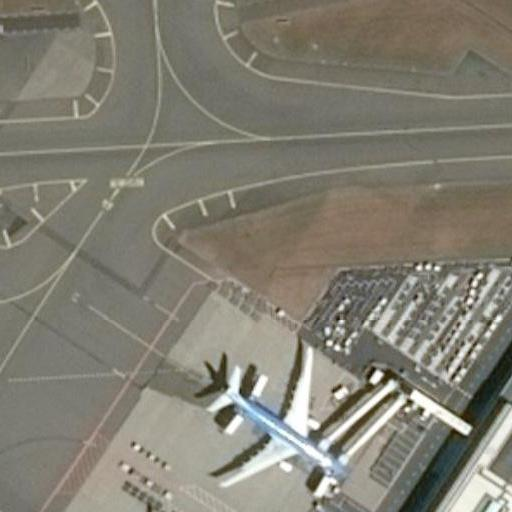Aircraft: (206, 339, 346, 488), (40, 503, 208, 512)
